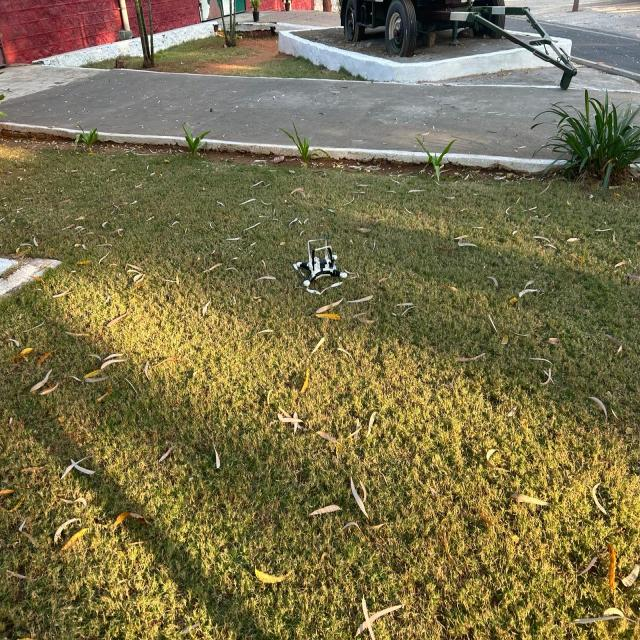drone: (282, 235, 369, 298)
